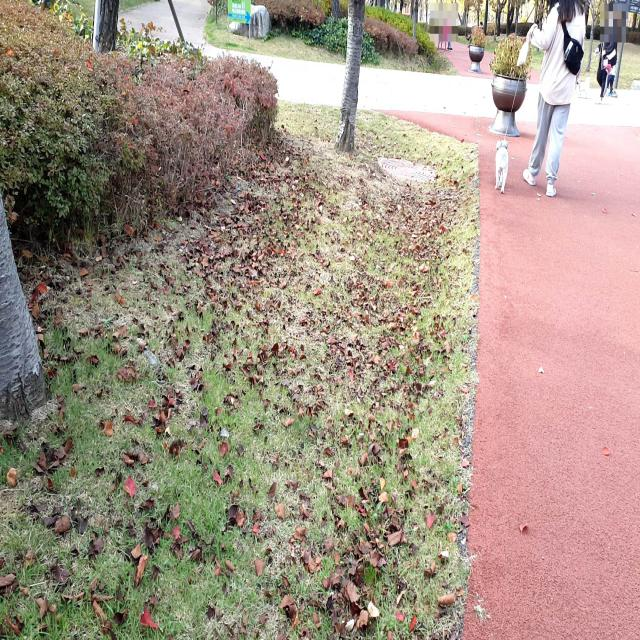Leashed_Dog: (494, 25, 553, 195)
